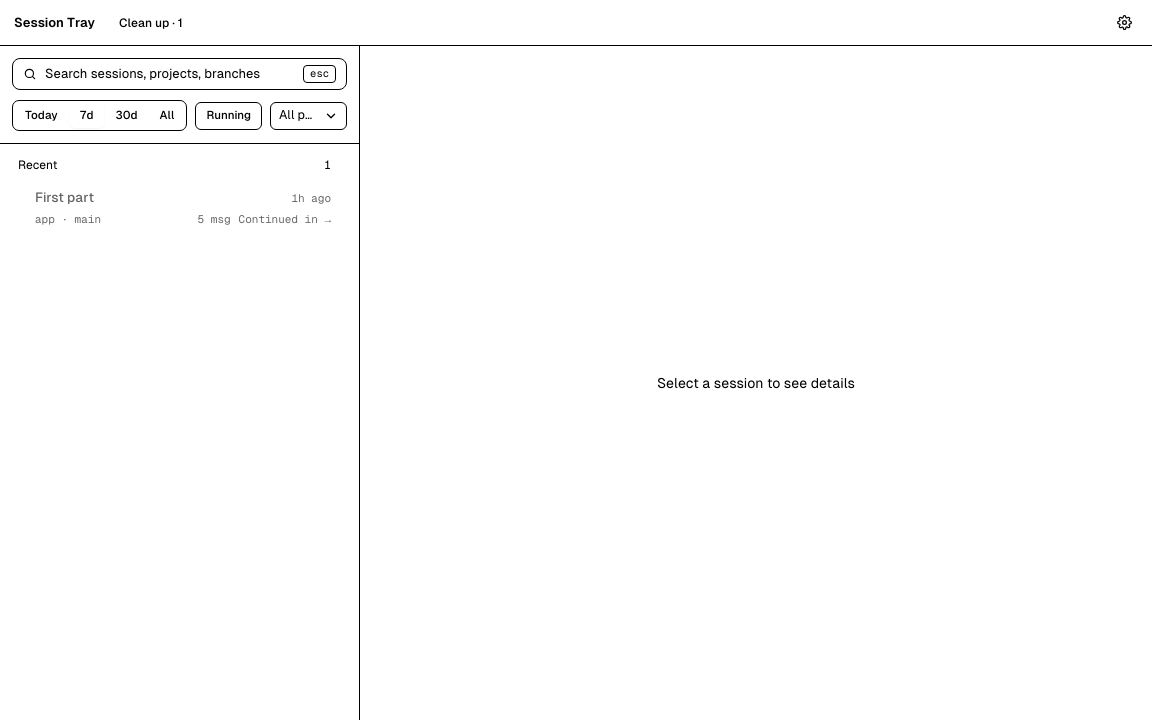
Scenario: Window › 'Continued in' selects the successor, even outside the time range
This screenshot has width=1152, height=720.
Click the text "First part": (64, 198) [35,190,94,205]
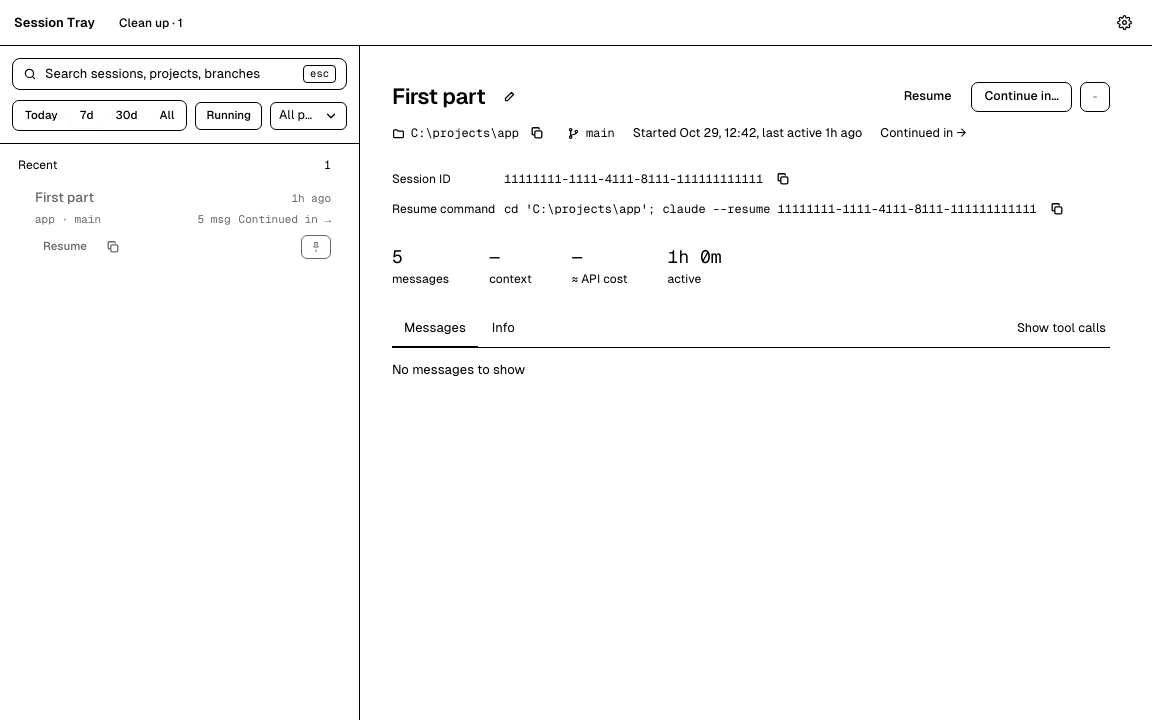
Click the 1st button "Continued in →": (924, 133) [880,124,967,142]
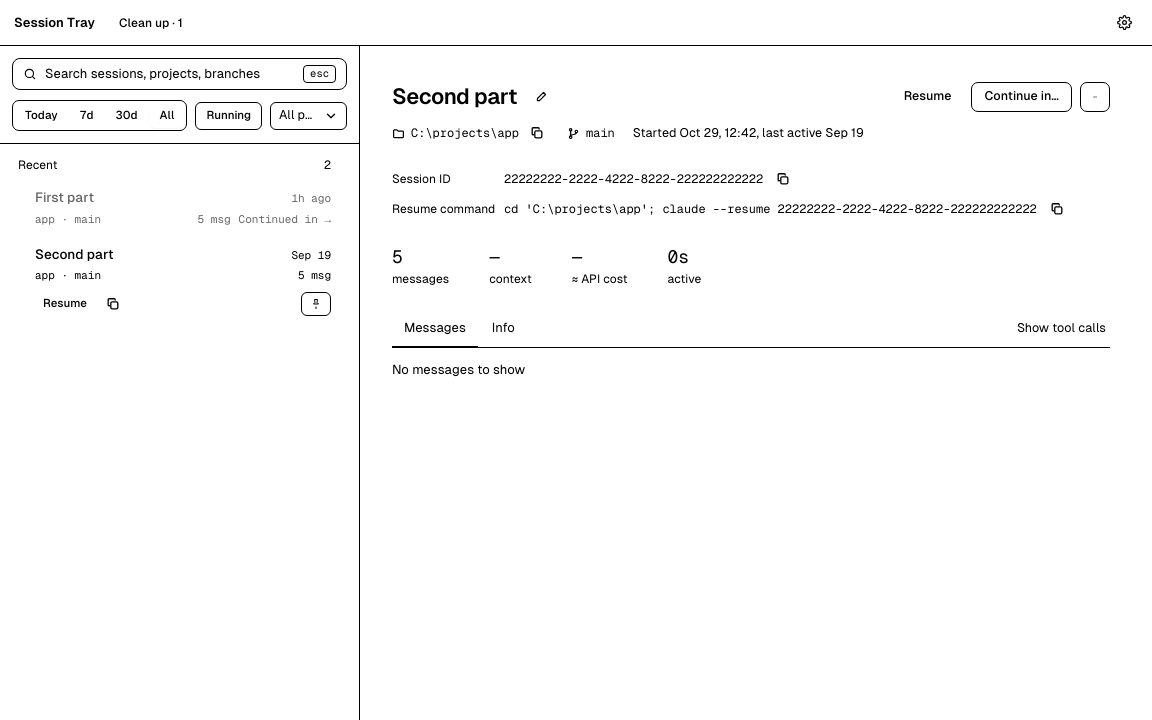
Result: the heading "Second part" is shown at [392,80,517,113]
